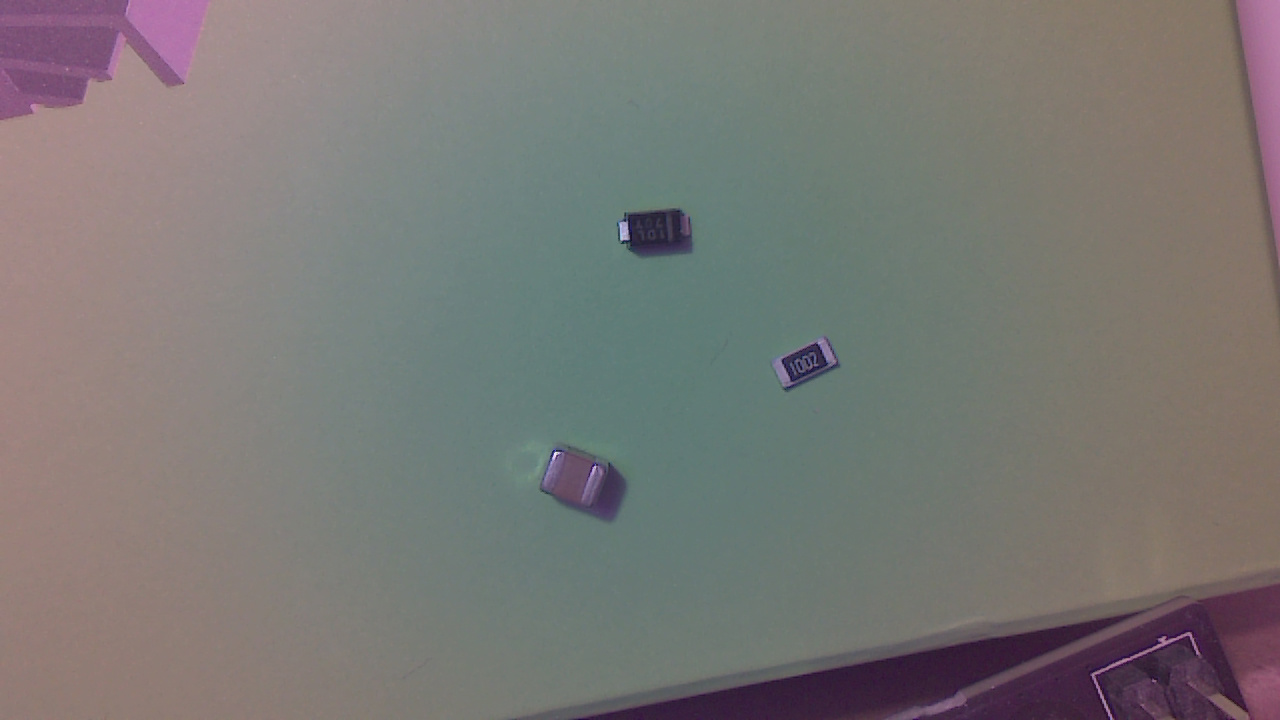Condensator: (552, 451, 620, 509)
Diode: (624, 206, 697, 266)
Resistor: (776, 337, 842, 398)
